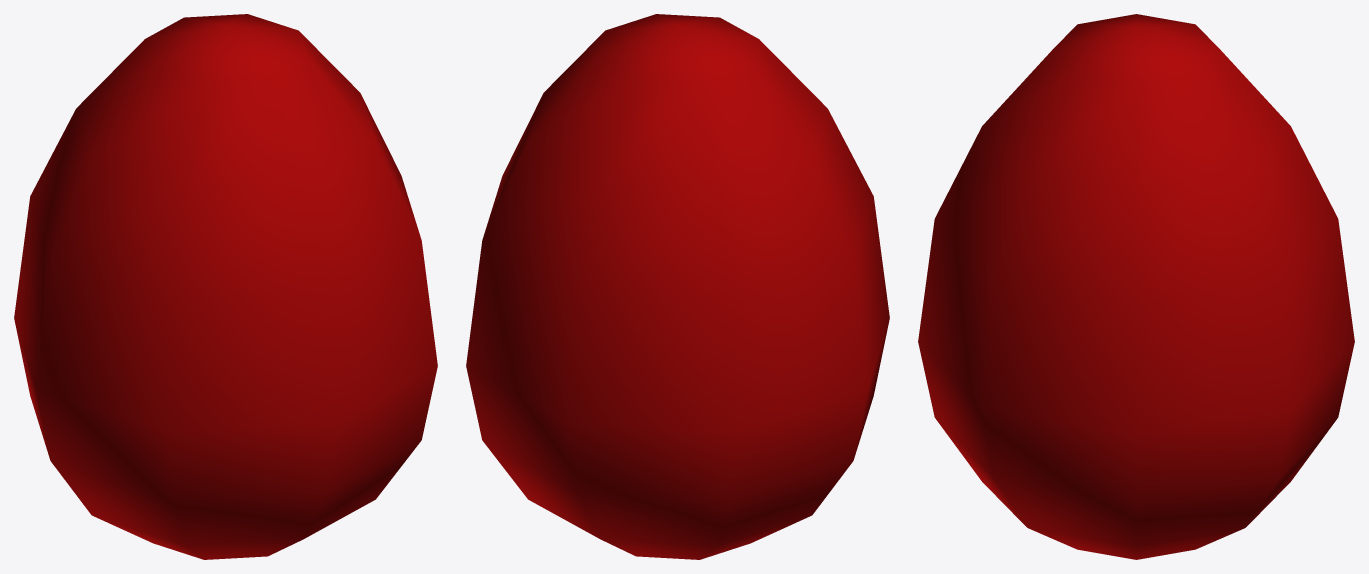
Rendered from egg_mesh.fbx.
The picture shows the model from 3 angles, left to right: view 1: azimuth 30°, elevation 25°; view 2: azimuth 150°, elevation 25°; view 3: azimuth 270°, elevation 25°; orthographic projection.
Parts seen in each view (by area): view 1: pSphere1; view 2: pSphere1; view 3: pSphere1.
Part boxes in pixels (bbox=[...]): pSphere1: bbox=[14, 14, 437, 559]; pSphere1: bbox=[466, 14, 889, 559]; pSphere1: bbox=[918, 14, 1354, 559].
Bounding box in the file's own units: 21.21 × 27.48 × 21.21.
